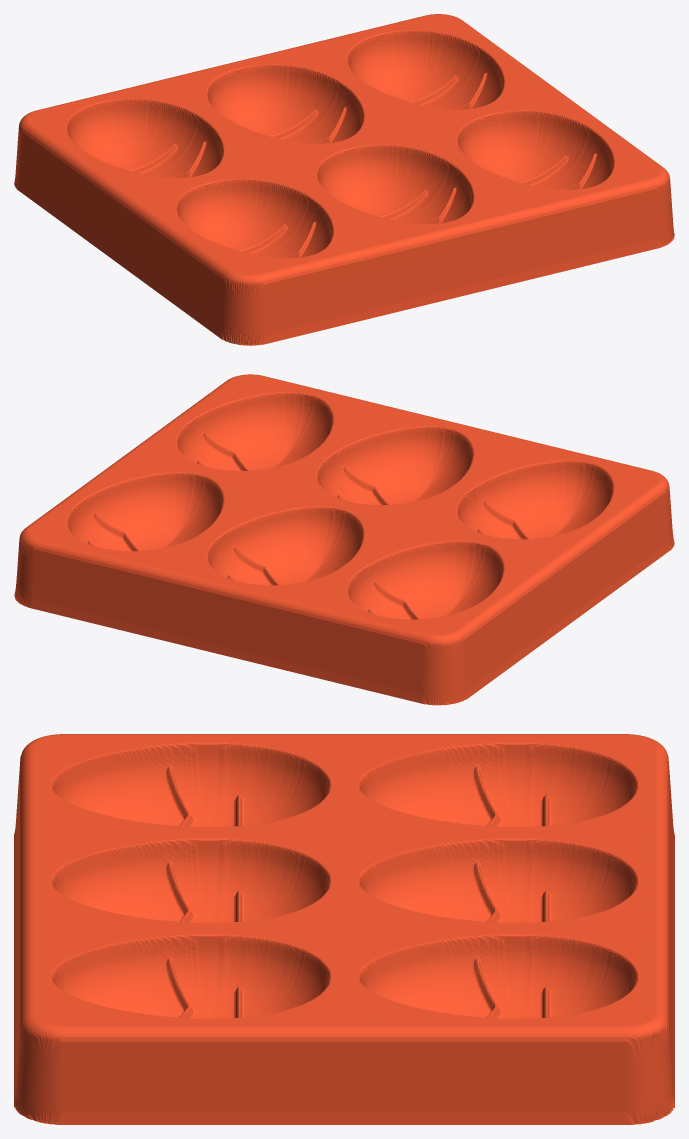
Rendered from mold.glb.
3 views of the same model, one above another, from view 1: azimuth 30°, elevation 25°; view 2: azimuth 150°, elevation 25°; view 3: azimuth 270°, elevation 25° (orthographic). The views are drawn at different scales.
Visible parts, largest first — view 1: geometry_0; view 2: geometry_0; view 3: geometry_0.
Part boxes in pixels (x1,y1,x2,y2): geometry_0: [14, 14, 674, 345]; geometry_0: [14, 374, 674, 705]; geometry_0: [14, 734, 674, 1124].
Bounding box in the file's own units: 0.1344 × 0.0185 × 0.1222.
